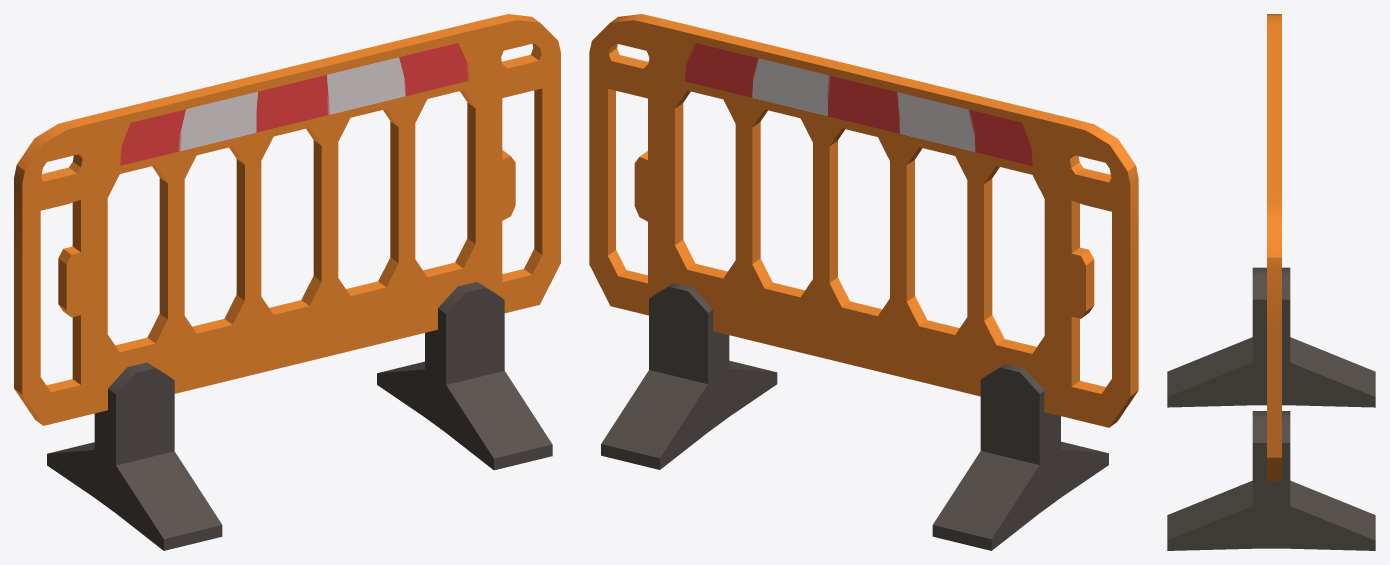
File: Obstacle_Barrier.FBX
The picture shows the model from 3 angles, left to right: view 1: azimuth 30°, elevation 25°; view 2: azimuth 150°, elevation 25°; view 3: azimuth 270°, elevation 25°; orthographic projection. The views are drawn at different scales.
Parts seen in each view (by area): view 1: Barrier; view 2: Barrier; view 3: Barrier.
Part boxes in pixels (x1=…): Barrier: x1=14, y1=14, x2=560, y2=550; Barrier: x1=589, y1=14, x2=1138, y2=550; Barrier: x1=1167, y1=14, x2=1375, y2=550.
Bounding box in the file's own units: 79.73 × 55.25 × 29.98.
Materials: 1 (1 with a texture image).
